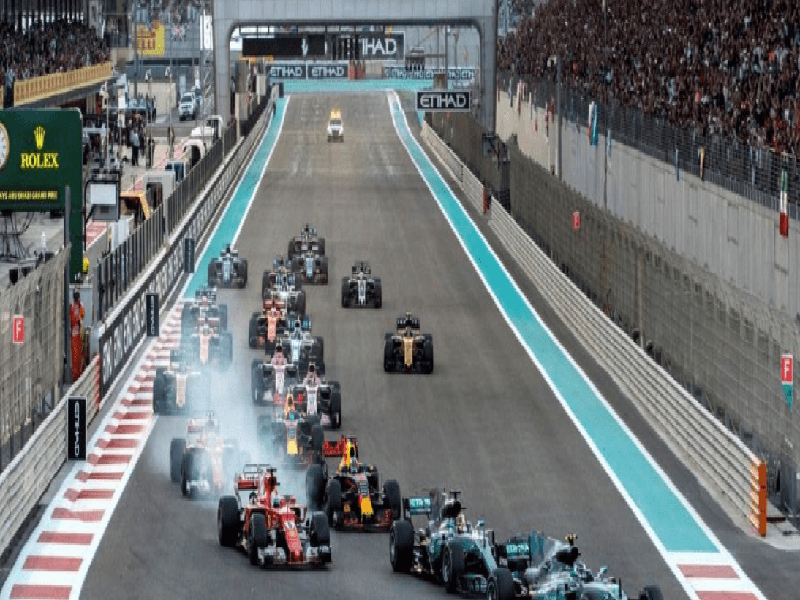f1: (383, 494, 535, 584), (219, 466, 333, 578), (311, 441, 401, 534), (258, 393, 341, 463), (373, 309, 448, 375), (242, 290, 308, 349), (336, 259, 392, 318), (253, 349, 308, 396), (273, 247, 335, 287), (285, 225, 333, 263)
